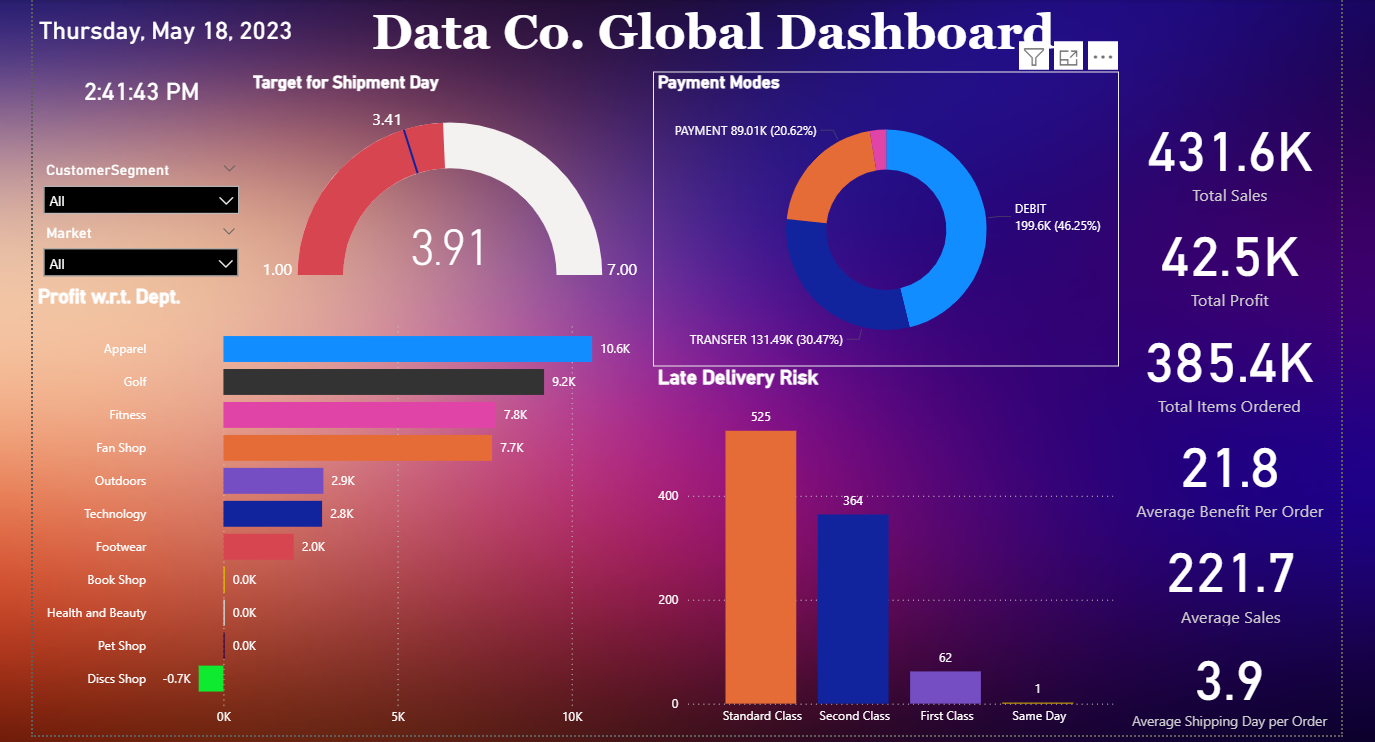

The page's visual inventory and layout, read from the dashboard file:
{"tool":"powerbi","page":{"name":"Page 1","canvas":[1280,720],"ordinal":0},"visuals":[{"type":"card","fields":{"Values":["Sum(SupplyChainData1.Sales)"]},"box":[1063.1,101.5,216.9,103.1],"z":0},{"type":"card","fields":{"Values":["Sum(SupplyChainData1.Order Item Total)"]},"box":[1061.5,307.7,218.5,103.1],"z":1000},{"type":"card","fields":{"Values":["Avg(SupplyChainData1.Benefit per order)"]},"box":[1063.1,410.8,216.9,103.1],"z":2000},{"type":"card","fields":{"Values":["Avg(SupplyChainData1.Days for shipping (real))"]},"box":[1061.5,616.9,218.5,103.1],"z":3000},{"type":"card","fields":{"Values":["Avg(SupplyChainData1.Sales)"]},"box":[1063.5,513.4,216.4,103.9],"z":4000},{"type":"card","fields":{"Values":["Sum(SupplyChainData1.OrderProfitPerOrder)"]},"box":[1063.1,204.6,216.9,103.1],"z":5000},{"type":"slicer","fields":{"Values":["SupplyChainData1.Market"]},"box":[0,215.4,210.8,63.1],"z":6000},{"type":"card","fields":{"Values":["Min(Current Date and Time.Date)"]},"box":[0,0,260,60],"z":7000},{"type":"card","fields":{"Values":["Min(Current Date and Time.Time)"]},"box":[26.2,60,161.5,60],"z":8000},{"type":"textbox","box":[326.2,0,687.7,70.8],"z":9000},{"type":"clusteredBarChart","title":"Profit w.r.t. Dept.","fields":{"Y":["Sum(SupplyChainData1.OrderProfitPerOrder)"],"Category":["SupplyChainData1.DepartmentName"]},"box":[0,280,606.2,440],"z":10000},{"type":"donutChart","title":"Payment Modes","fields":{"Category":["SupplyChainData1.Type"],"Y":["Sum(SupplyChainData1.Sales)"]},"box":[606.2,70.8,456.9,289.2],"z":11000},{"type":"clusteredColumnChart","title":"Late Delivery Risk","fields":{"Category":["SupplyChainData1.Shipping Mode"],"Y":["Sum(SupplyChainData1.Late_delivery_risk)"]},"box":[606.2,360,455.4,360],"z":12000},{"type":"slicer","fields":{"Values":["SupplyChainData1.CustomerSegment"]},"box":[0,153.7,211.3,61.7],"z":13000},{"type":"gauge","title":"Target for Shipment Day","fields":{"Y":["Avg(SupplyChainData1.Days for shipping (real))"],"TargetValue":["Avg(SupplyChainData1.Days for shipment (scheduled))"]},"box":[210.8,70.8,395.4,209.2],"z":14000}]}

Visuals, with their boxes in screenshot pixels (x1, y1, x2, y2):
card - Sum(SupplyChainData1.Sales): (left=1201, top=60, right=1374, bottom=169)
card - Sum(SupplyChainData1.Order Item Total): (left=1200, top=277, right=1374, bottom=386)
card - Avg(SupplyChainData1.Benefit per order): (left=1201, top=386, right=1374, bottom=494)
card - Avg(SupplyChainData1.Days for shipping (real)): (left=1200, top=603, right=1374, bottom=711)
card - Avg(SupplyChainData1.Sales): (left=1202, top=494, right=1374, bottom=603)
card - Sum(SupplyChainData1.OrderProfitPerOrder): (left=1201, top=169, right=1374, bottom=277)
slicer - SupplyChainData1.Market: (left=82, top=180, right=304, bottom=247)
card - Min(Current Date and Time.Date): (left=82, top=0, right=356, bottom=17)
card - Min(Current Date and Time.Time): (left=110, top=17, right=280, bottom=80)
textbox: (left=426, top=0, right=1150, bottom=28)
"Profit w.r.t. Dept." clusteredBarChart: (left=82, top=248, right=720, bottom=711)
"Payment Modes" donutChart: (left=720, top=28, right=1201, bottom=332)
"Late Delivery Risk" clusteredColumnChart: (left=720, top=332, right=1200, bottom=711)
slicer - SupplyChainData1.CustomerSegment: (left=82, top=115, right=305, bottom=180)
"Target for Shipment Day" gauge: (left=304, top=28, right=720, bottom=248)
